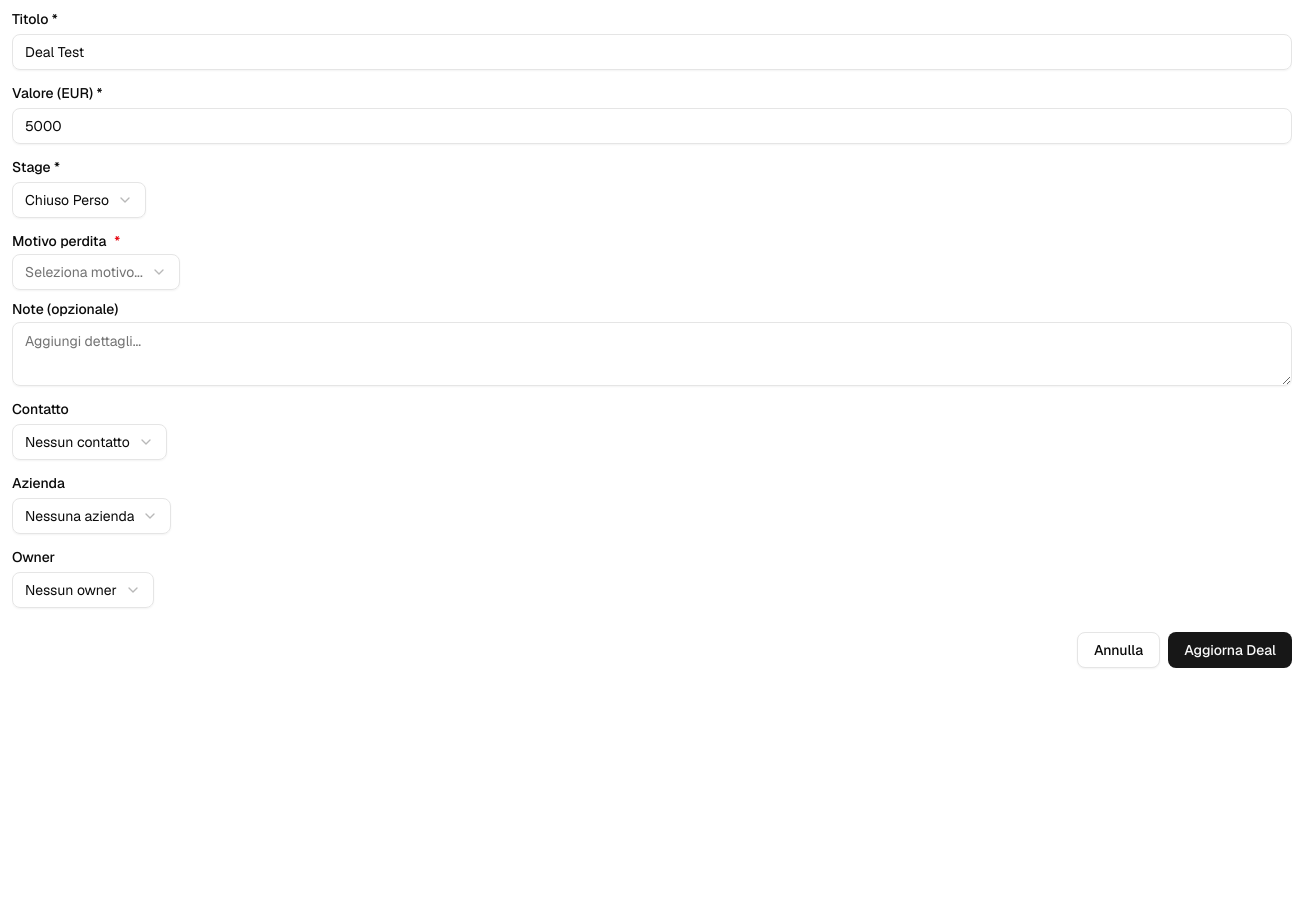
Test: DealForm › shows validation error when submitting Chiuso Perso without reason
Click the button "Aggiorna Deal" at (1230, 650), box [1168, 632, 1292, 668]
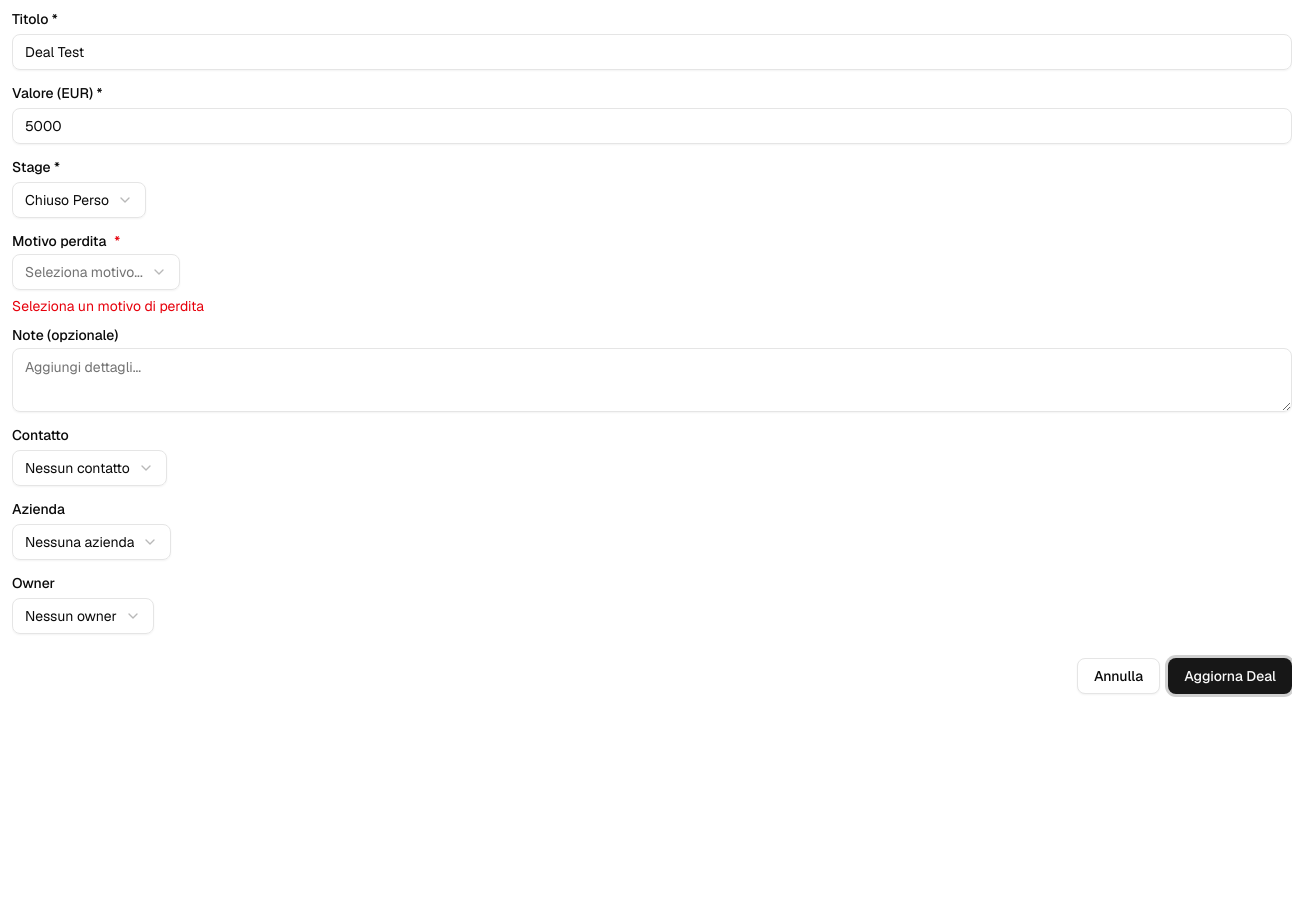
Result: the text "Seleziona un motivo di perdita" is shown at [12, 297, 204, 315]
